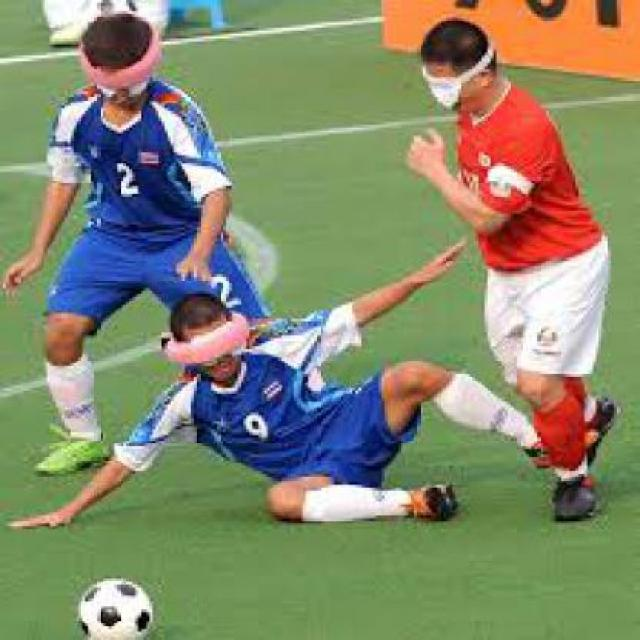fall: (32, 214, 534, 543)
